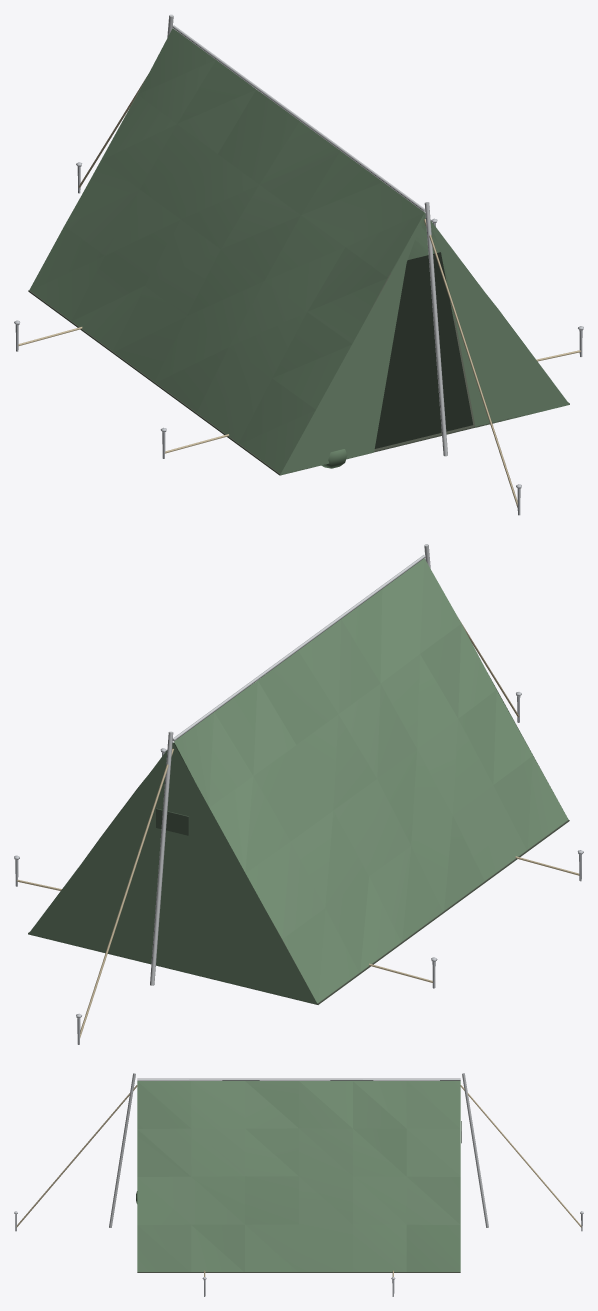
The model's file is camp_tent_a_open.glb.
3 views of the same model, one above another, from view 1: azimuth 30°, elevation 25°; view 2: azimuth 150°, elevation 25°; view 3: azimuth 270°, elevation 25° (orthographic). The views are drawn at different scales.
Visible parts, largest first — view 1: body; view 2: body; view 3: body.
Boxes of the visible parts, x1,y1,x2,y2 form: body: [14, 14, 583, 515]; body: [14, 544, 583, 1044]; body: [14, 1073, 583, 1296].
Size of what is drawn, in the model's own units: 2.33 by 1.31 by 4.23.
